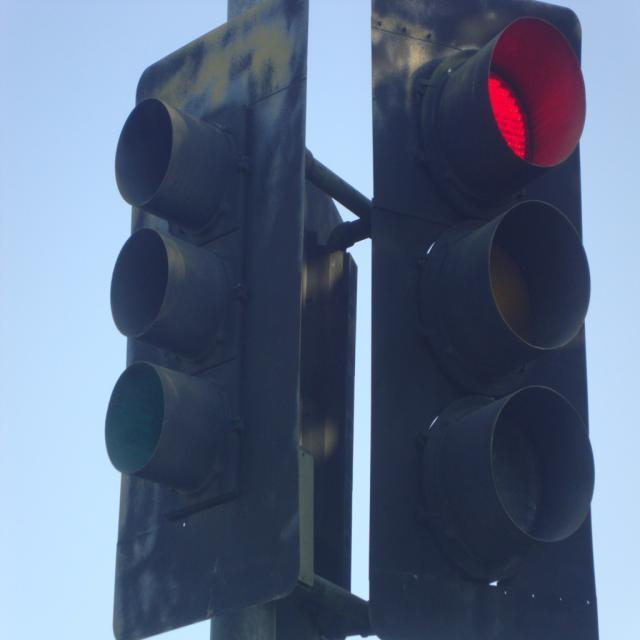off traffic light: (105, 95, 245, 536)
traffic light: (372, 0, 595, 640)
